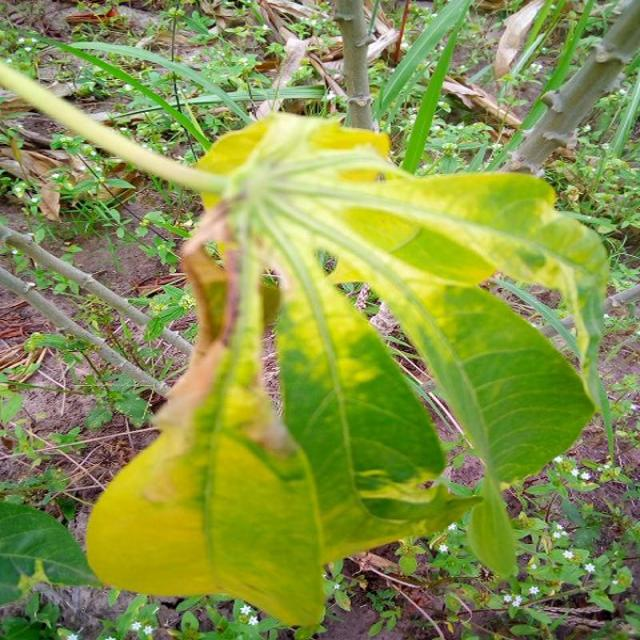cassava leaf: (82, 109, 610, 628)
